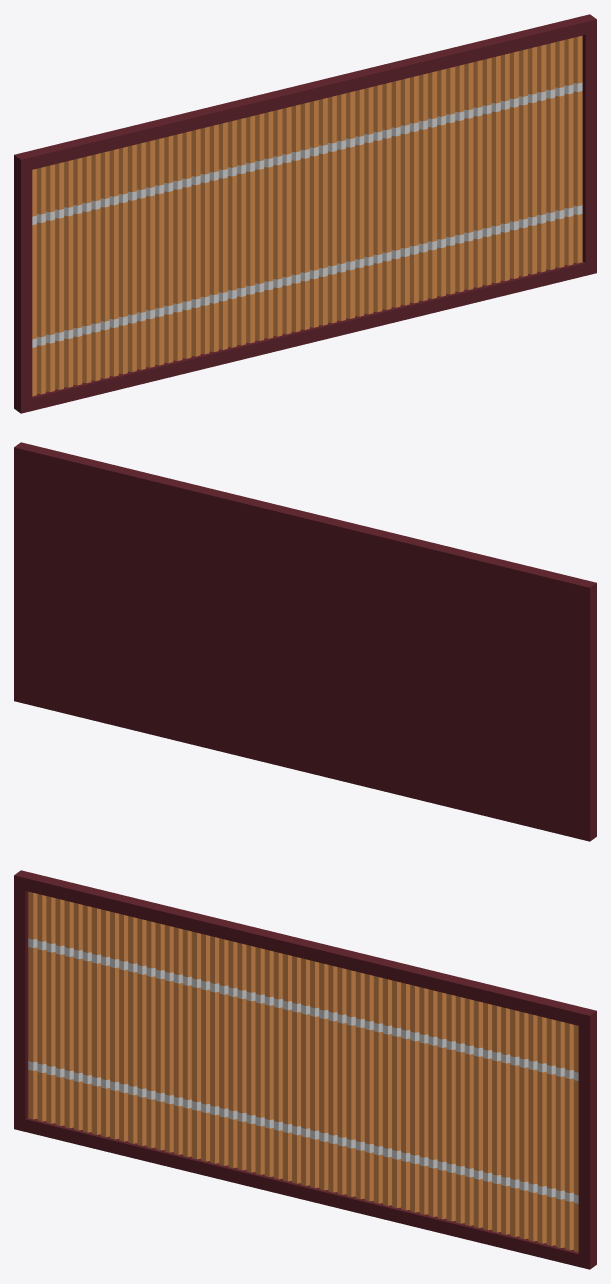
Rendered from Wall Feature.fbx.
3 views of the same model, one above another, from view 1: azimuth 30°, elevation 25°; view 2: azimuth 150°, elevation 25°; view 3: azimuth 330°, elevation 25° (orthographic).
Parts seen in each view (by area): view 1: Wall Feature; view 2: Wall Feature; view 3: Wall Feature.
Boxes of the visible parts, x1,y1,x2,y2 form: Wall Feature: [14, 14, 596, 413]; Wall Feature: [14, 442, 596, 841]; Wall Feature: [14, 870, 596, 1269].
Bounding box in the file's own units: 1900 × 800 × 40.
